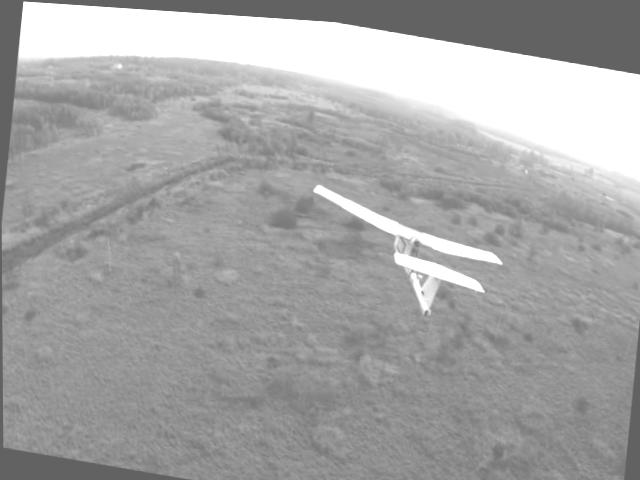hedef: (300, 174, 521, 337)
